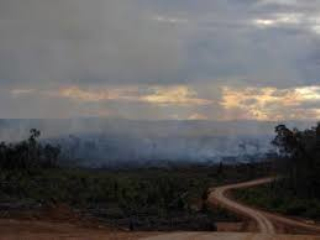smoke: (10, 87, 294, 166)
